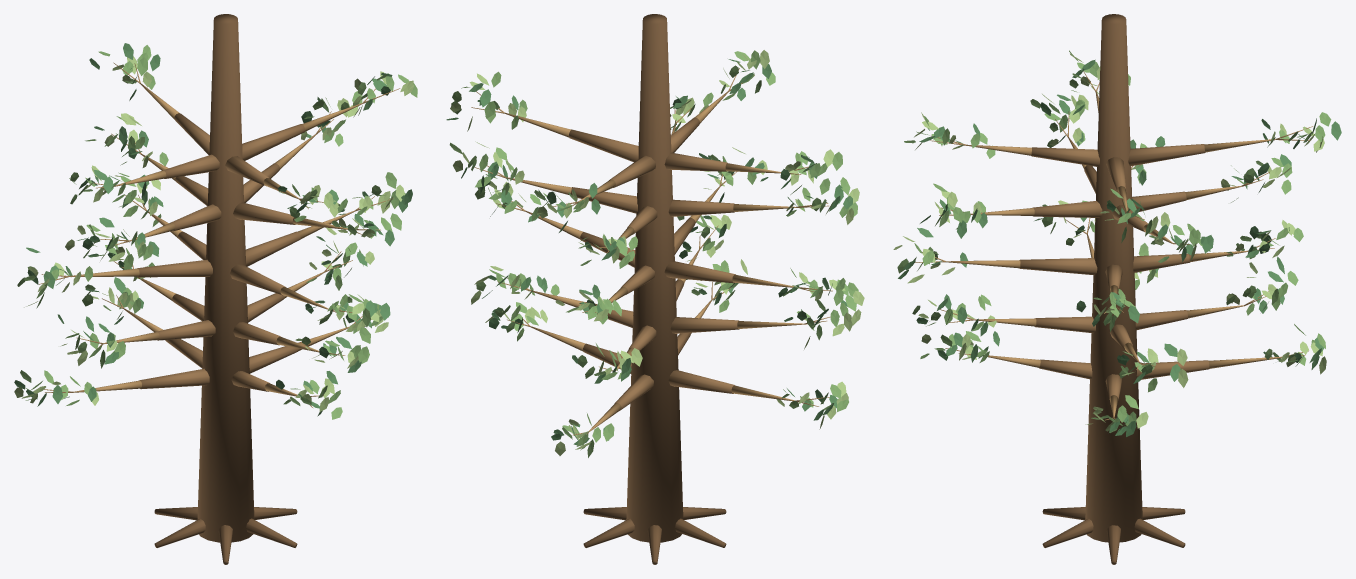
The model's file is leafy_tree_c.glb.
The picture shows the model from 3 angles, left to right: view 1: azimuth 30°, elevation 25°; view 2: azimuth 150°, elevation 25°; view 3: azimuth 270°, elevation 25°; orthographic projection.
Parts seen in each view (by area): view 1: leafy_tree_c_trunk, leafy_tree_c_branch_2_2_a, leafy_tree_c_branch_0_2_a, leafy_tree_c_branch_4_0_a, leafy_tree_c_branch_3_3_a, leafy_tree_c_branch_1_2_a, leafy_tree_c_branch_2_0_a, leafy_tree_c_branch_4_2_a, leafy_tree_c_branch_2_3_a, leafy_tree_c_branch_3_2_a, leafy_tree_c_branch_0_0_a, leafy_tree_c_branch_1_3_a (+5 smaller); view 2: leafy_tree_c_trunk, leafy_tree_c_branch_4_0_a, leafy_tree_c_branch_2_2_a, leafy_tree_c_branch_1_2_a, leafy_tree_c_branch_3_2_a, leafy_tree_c_branch_0_2_a, leafy_tree_c_branch_4_2_a, leafy_tree_c_branch_3_0_a, leafy_tree_c_branch_4_1_a, leafy_tree_c_branch_0_1_a, root_1, root_3; view 3: leafy_tree_c_trunk, leafy_tree_c_branch_4_1_a, leafy_tree_c_branch_2_3_a, leafy_tree_c_branch_4_3_a, leafy_tree_c_branch_3_3_a, leafy_tree_c_branch_1_3_a, leafy_tree_c_branch_2_1_a, leafy_tree_c_branch_0_3_a, leafy_tree_c_branch_0_1_a, leafy_tree_c_branch_1_1_a, leafy_tree_c_branch_3_1_a, root_1 (+1 smaller).
Boxes of the visible parts, bbox=[...] form: leafy_tree_c_trunk: bbox=[197, 14, 254, 542]; leafy_tree_c_branch_2_2_a: bbox=[137, 259, 212, 277]; leafy_tree_c_branch_0_2_a: bbox=[139, 368, 209, 389]; leafy_tree_c_branch_4_0_a: bbox=[242, 124, 305, 160]; leafy_tree_c_branch_3_3_a: bbox=[233, 202, 295, 224]; leafy_tree_c_branch_1_2_a: bbox=[156, 320, 215, 340]; leafy_tree_c_branch_2_0_a: bbox=[245, 231, 300, 266]; leafy_tree_c_branch_4_2_a: bbox=[162, 154, 219, 178]; leafy_tree_c_branch_2_3_a: bbox=[230, 264, 285, 295]; leafy_tree_c_branch_3_2_a: bbox=[170, 204, 221, 231]; leafy_tree_c_branch_0_0_a: bbox=[249, 346, 298, 373]; leafy_tree_c_branch_1_3_a: bbox=[233, 322, 280, 345]; leafy_tree_c_trunk: bbox=[626, 14, 683, 542]; leafy_tree_c_branch_4_0_a: bbox=[568, 129, 638, 162]; leafy_tree_c_branch_2_2_a: bbox=[664, 261, 735, 283]; leafy_tree_c_branch_1_2_a: bbox=[670, 317, 739, 333]; leafy_tree_c_branch_3_2_a: bbox=[668, 199, 734, 216]; leafy_tree_c_branch_0_2_a: bbox=[668, 370, 734, 393]; leafy_tree_c_branch_4_2_a: bbox=[664, 152, 727, 171]; leafy_tree_c_branch_3_0_a: bbox=[570, 187, 637, 213]; leafy_tree_c_branch_4_1_a: bbox=[610, 155, 655, 187]; leafy_tree_c_branch_0_1_a: bbox=[614, 374, 653, 410]; root_1: bbox=[583, 518, 634, 547]; root_3: bbox=[675, 518, 726, 547]; leafy_tree_c_trunk: bbox=[1085, 14, 1142, 542]; leafy_tree_c_branch_4_1_a: bbox=[1128, 144, 1205, 166]; leafy_tree_c_branch_2_3_a: bbox=[1019, 258, 1097, 275]; leafy_tree_c_branch_4_3_a: bbox=[1031, 147, 1099, 166]; leafy_tree_c_branch_3_3_a: bbox=[1032, 200, 1102, 217]; leafy_tree_c_branch_1_3_a: bbox=[1035, 316, 1095, 333]; leafy_tree_c_branch_2_1_a: bbox=[1133, 253, 1189, 272]; leafy_tree_c_branch_0_3_a: bbox=[1039, 359, 1092, 379]; leafy_tree_c_branch_0_1_a: bbox=[1136, 360, 1209, 379]; leafy_tree_c_branch_1_1_a: bbox=[1135, 310, 1187, 329]; leafy_tree_c_branch_3_1_a: bbox=[1132, 191, 1186, 211]; root_1: bbox=[1134, 518, 1185, 547].
Size of the model in its own units: 4.32 by 5.24 by 4.16.
